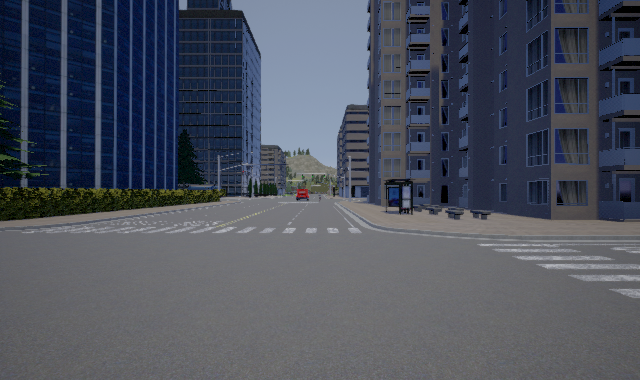traffic_light: (343, 167, 347, 174), (347, 182, 349, 187)
vehicle: (296, 188, 309, 201)
